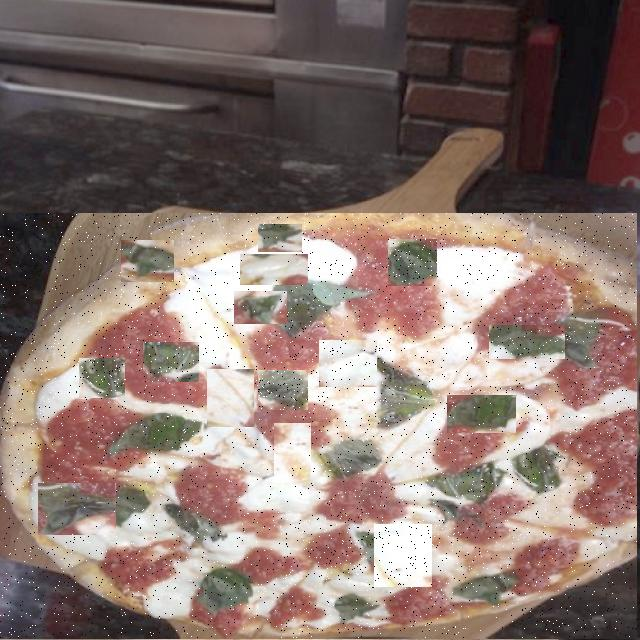Basil: (282, 518, 362, 580), (200, 427, 265, 498), (38, 484, 116, 535), (448, 396, 518, 433), (489, 326, 565, 359), (388, 240, 437, 286), (143, 343, 199, 382), (121, 241, 174, 282), (258, 372, 308, 412), (79, 360, 125, 400), (234, 292, 287, 324), (258, 225, 302, 252)
Cheese: (374, 525, 432, 587), (208, 370, 255, 427), (319, 341, 377, 387), (274, 424, 311, 483), (240, 255, 308, 285)
Pizza: (0, 214, 637, 638)
